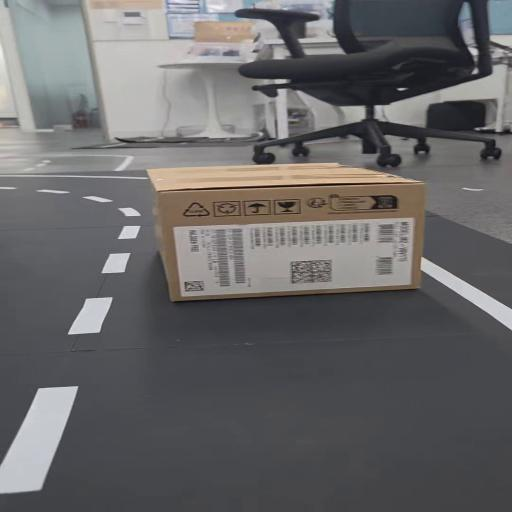Box: (136, 162, 440, 300)
